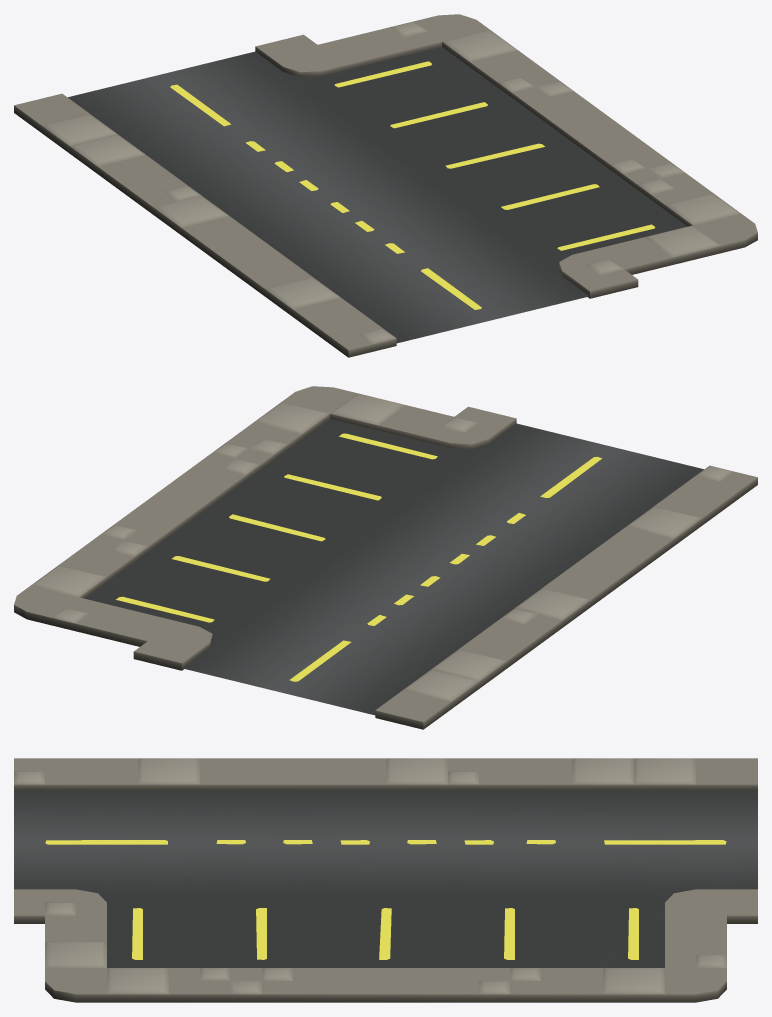
The model's file is Road_1J.fbx.
3 views of the same model, one above another, from view 1: azimuth 30°, elevation 25°; view 2: azimuth 150°, elevation 25°; view 3: azimuth 270°, elevation 25° (orthographic). The views are drawn at different scales.
Visible parts, largest first — view 1: Road_1J; view 2: Road_1J; view 3: Road_1J.
Part boxes in pixels (<box>): Road_1J: <box>14,14,757,357</box>; Road_1J: <box>14,386,757,729</box>; Road_1J: <box>14,758,757,1002</box>.
Size of the model in its own units: 18 by 0.3565 by 24.
